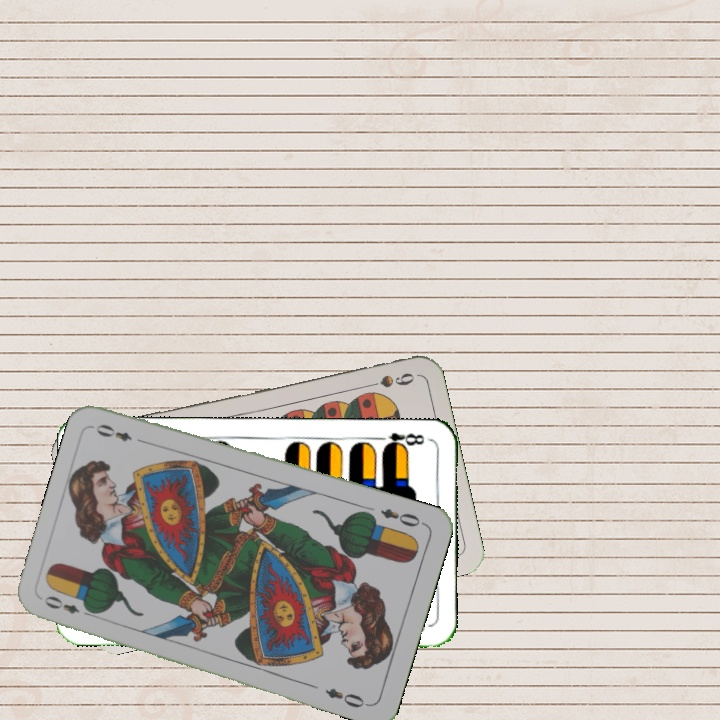E8: (372, 429, 427, 453)
EO: (40, 592, 97, 620), (376, 504, 428, 530)
S9: (359, 368, 418, 391)
